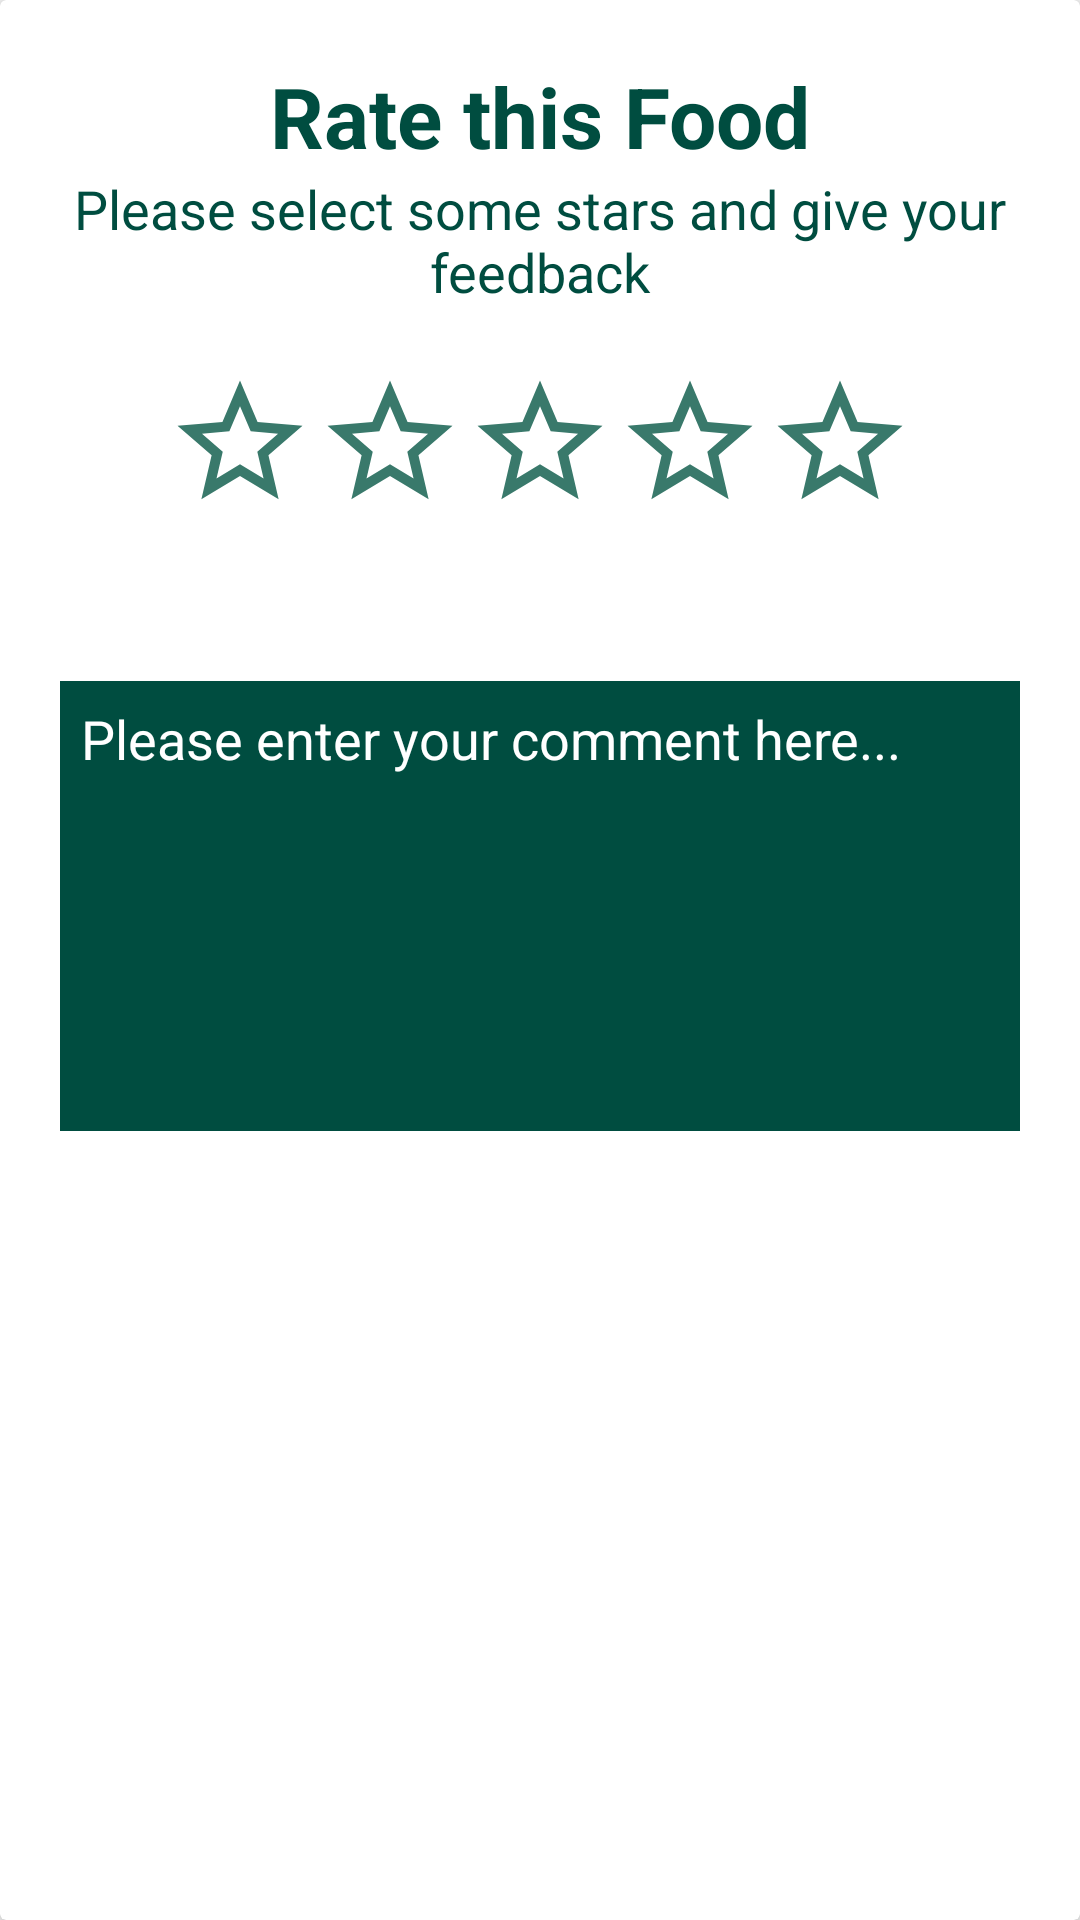

Named icons in this screenshot (1080 × 1920) and their centers, (x,y):
star border: (240,440), (390,440), (540,440), (690,440), (840,440)
